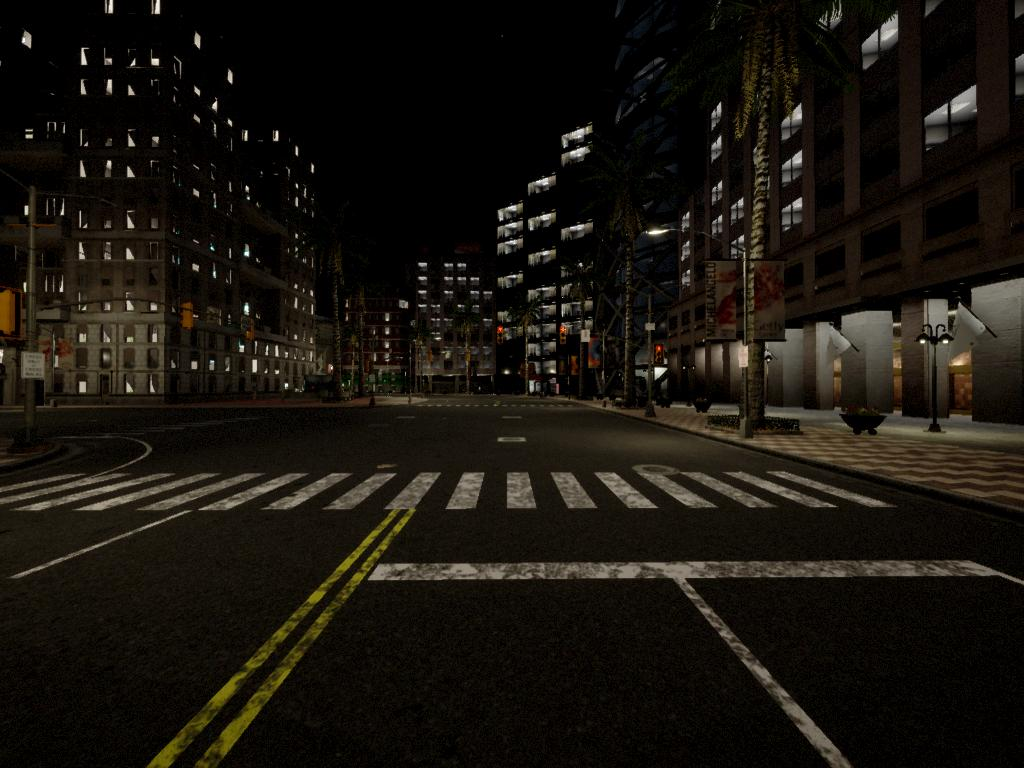traffic_light: (655, 345, 665, 366), (497, 326, 505, 345), (561, 327, 567, 346)
